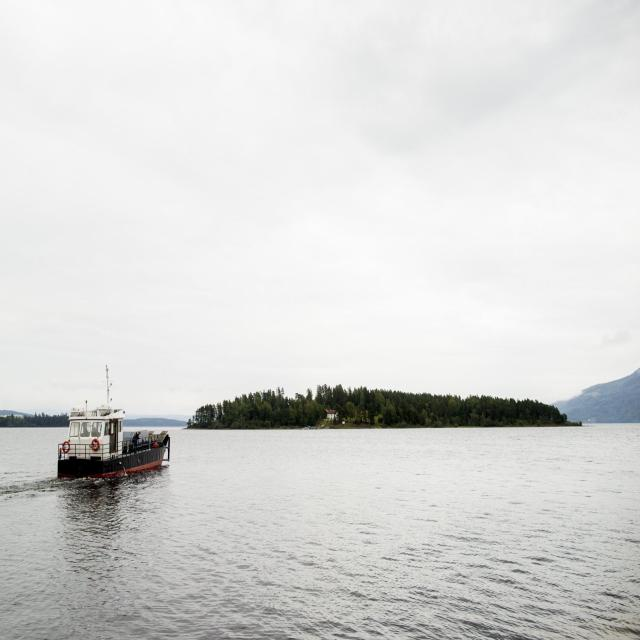fishing boat: (51, 394, 177, 484)
